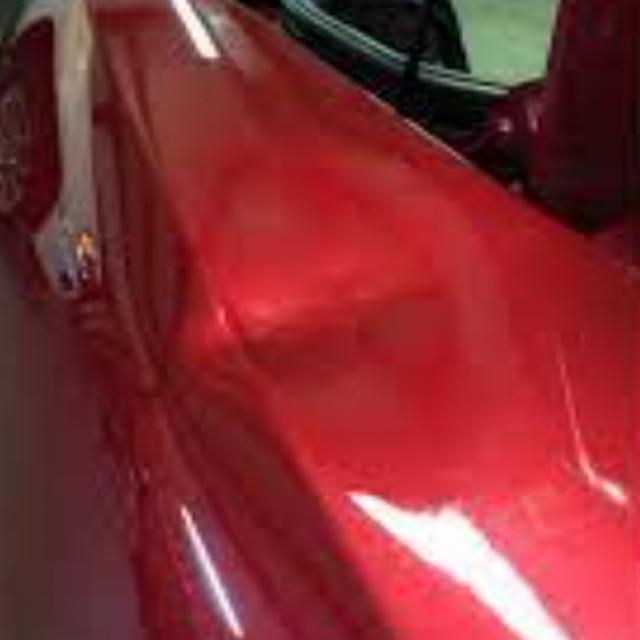dents: (190, 224, 459, 412)
